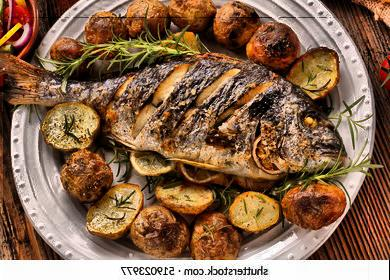fish: (10, 32, 367, 188)
